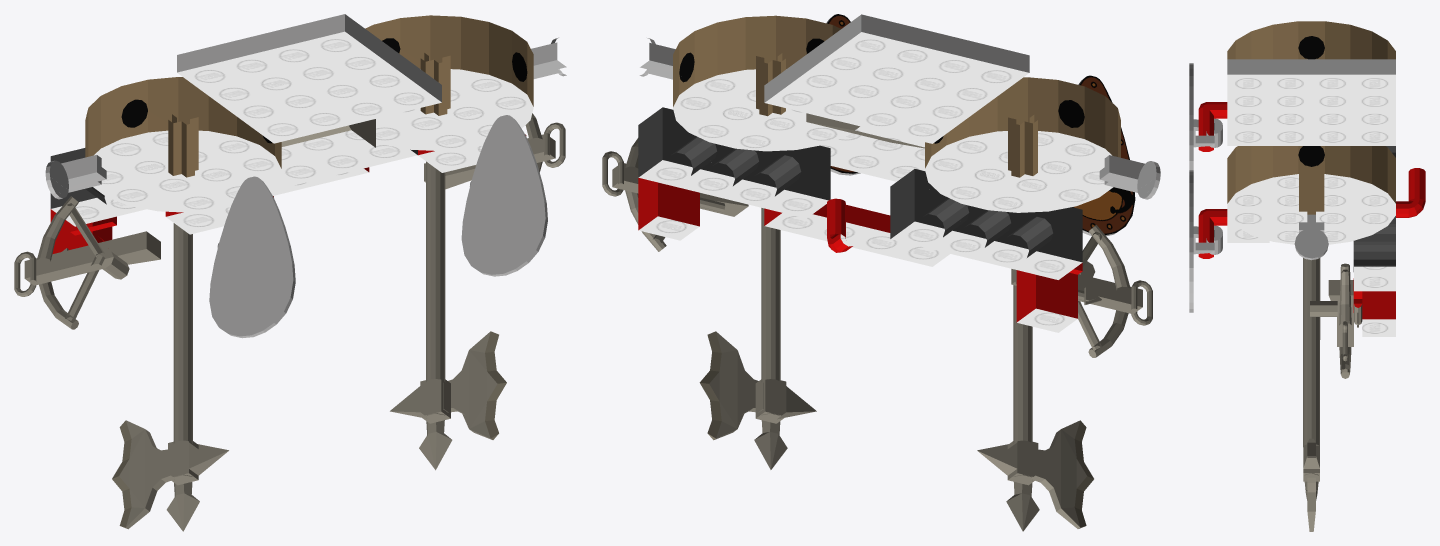
3 renders of one model, left to right at view 1: azimuth 30°, elevation 25°; view 2: azimuth 150°, elevation 25°; view 3: azimuth 270°, elevation 25°, orthographic. The views are drawn at different scales.
Visible parts, largest first — view 1: 004_OC_4806B2_PART_1, 114_OC_4806B2_Wheel, 108_OC_4806B2_Wheel, 046_OC_4806B2_PART_15, 052_OC_4806B2_PART_14, 031_OC_4806B2_PART_18, 026_OC_4806B2_PART_19, 069_L_257000, 120_OC_4806B2_Middle, 093_OC_4806B2__BLACK_BRICK, 098_OC_4806B2_Peg, 062_L_257000 (+4 smaller); view 2: 004_OC_4806B2_PART_1, 114_OC_4806B2_Wheel, 108_OC_4806B2_Wheel, 093_OC_4806B2__BLACK_BRICK, 088_OC_4806B2__BLACK_BRICK, 046_OC_4806B2_PART_15, 052_OC_4806B2_PART_14, 082_OC_4806B2_Red_bit, 069_L_257000, 120_OC_4806B2_Middle, 077_OC_4806B3_RED_BLOCK, 072_OC_4806B3_RED_BLOCK (+4 smaller); view 3: 108_OC_4806B2_Wheel, 004_OC_4806B2_PART_1, 114_OC_4806B2_Wheel, 046_OC_4806B2_PART_15, 088_OC_4806B2__BLACK_BRICK, 062_L_257000, 072_OC_4806B3_RED_BLOCK, 036_OC_4806B2_PART_17, 026_OC_4806B2_PART_19, 103_OC_4806B2_Peg, 031_OC_4806B2_PART_18, 082_OC_4806B2_Red_bit (+1 smaller).
Boxes of the visible parts, box(x1,y1,x2,y2) form: 004_OC_4806B2_PART_1: box(177, 14, 441, 143); 114_OC_4806B2_Wheel: box(85, 77, 281, 212); 108_OC_4806B2_Wheel: box(365, 15, 533, 150); 046_OC_4806B2_PART_15: box(390, 161, 506, 470); 052_OC_4806B2_PART_14: box(112, 223, 228, 531); 031_OC_4806B2_PART_18: box(209, 176, 295, 338); 026_OC_4806B2_PART_19: box(461, 115, 547, 276); 069_L_257000: box(14, 196, 160, 329); 120_OC_4806B2_Middle: box(269, 119, 417, 191); 093_OC_4806B2__BLACK_BRICK: box(50, 148, 145, 226); 098_OC_4806B2_Peg: box(45, 155, 106, 199); 062_L_257000: box(424, 113, 565, 189); 004_OC_4806B2_PART_1: box(764, 14, 1029, 143); 114_OC_4806B2_Wheel: box(925, 77, 1120, 212); 108_OC_4806B2_Wheel: box(673, 15, 850, 151); 093_OC_4806B2__BLACK_BRICK: box(890, 169, 1082, 279); 088_OC_4806B2__BLACK_BRICK: box(638, 107, 830, 218); 046_OC_4806B2_PART_15: box(699, 208, 816, 469); 052_OC_4806B2_PART_14: box(977, 285, 1093, 531); 082_OC_4806B2_Red_bit: box(764, 198, 949, 266); 069_L_257000: box(1011, 225, 1152, 357); 120_OC_4806B2_Middle: box(806, 113, 925, 181); 077_OC_4806B3_RED_BLOCK: box(1016, 263, 1082, 332); 072_OC_4806B3_RED_BLOCK: box(638, 178, 699, 240); 108_OC_4806B2_Wheel: box(1227, 146, 1395, 244); 004_OC_4806B2_PART_1: box(1227, 59, 1395, 145); 114_OC_4806B2_Wheel: box(1227, 21, 1395, 59); 046_OC_4806B2_PART_15: box(1303, 258, 1319, 531); 088_OC_4806B2__BLACK_BRICK: box(1353, 216, 1395, 291); 062_L_257000: box(1310, 263, 1353, 378); 072_OC_4806B3_RED_BLOCK: box(1353, 278, 1395, 336); 036_OC_4806B2_PART_17: box(1198, 209, 1269, 258); 026_OC_4806B2_PART_19: box(1189, 170, 1222, 312); 103_OC_4806B2_Peg: box(1294, 214, 1328, 260); 031_OC_4806B2_PART_18: box(1189, 63, 1222, 170); 082_OC_4806B2_Red_bit: box(1396, 168, 1425, 217).
Bounding box in the file's own units: 10.48 × 7.84 × 4.48.
11 materials, 4 textured.
